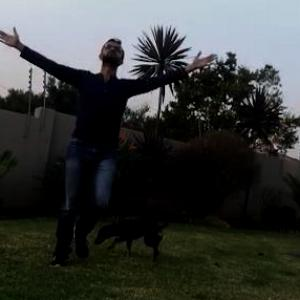takeoff: (5, 34, 204, 257)
